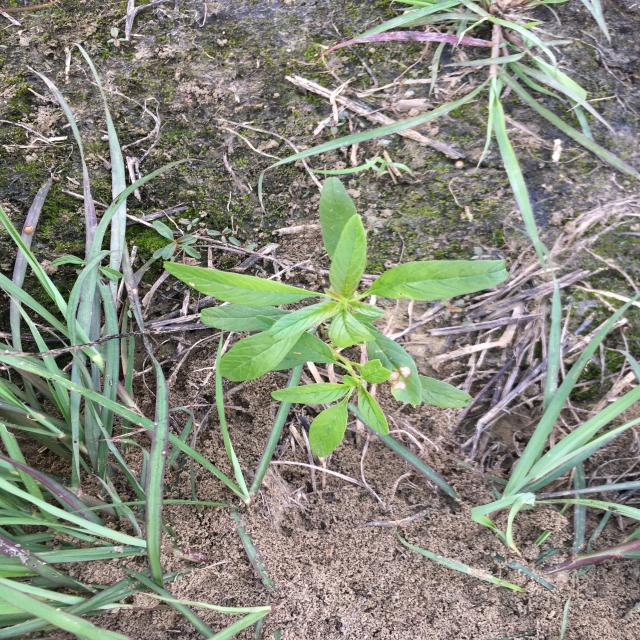Waterhemp: (160, 176, 512, 458)
